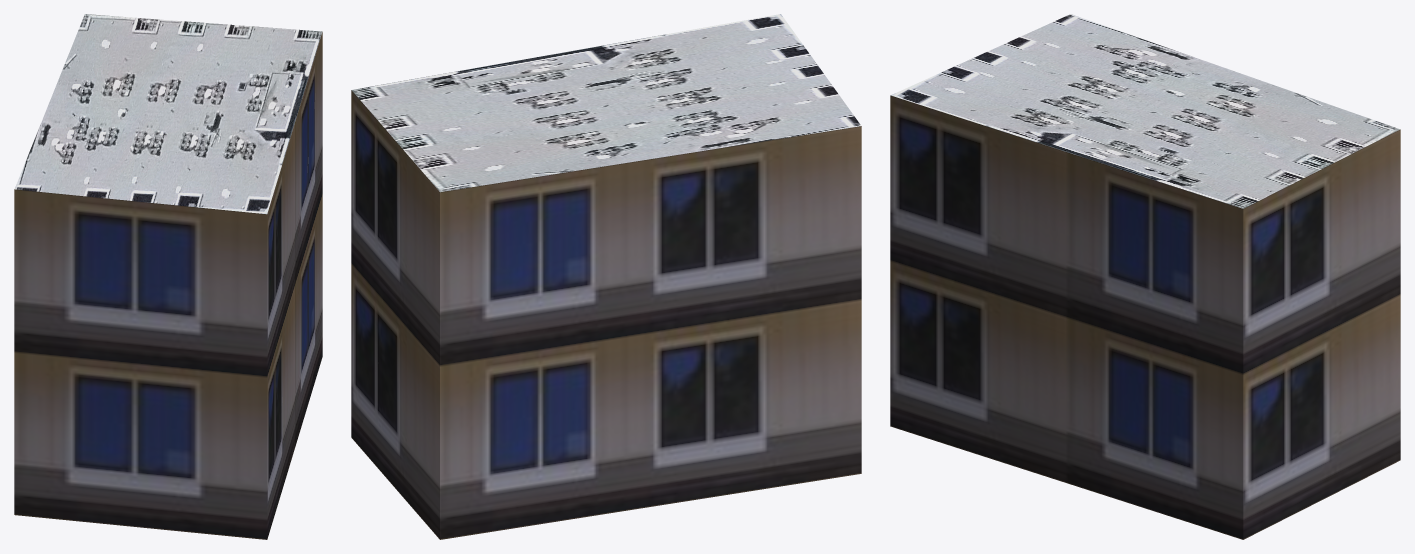
The model's file is ResTex__4173.fbx.
3 renders of one model, left to right at view 1: azimuth 30°, elevation 25°; view 2: azimuth 150°, elevation 25°; view 3: azimuth 270°, elevation 25°, orthographic. The views are drawn at different scales.
Visible parts, largest first — view 1: CityEngineMaterial_5_m, CityEngineMaterial_2_m; view 2: CityEngineMaterial_5_m, CityEngineMaterial_2_m; view 3: CityEngineMaterial_5_m, CityEngineMaterial_2_m.
Boxes of the visible parts, left/top/right/bottom form: CityEngineMaterial_5_m: left=14, top=32, right=322, bottom=539; CityEngineMaterial_2_m: left=15, top=14, right=322, bottom=214; CityEngineMaterial_5_m: left=351, top=90, right=861, bottom=539; CityEngineMaterial_2_m: left=352, top=14, right=860, bottom=192; CityEngineMaterial_5_m: left=890, top=95, right=1400, bottom=539; CityEngineMaterial_2_m: left=891, top=14, right=1399, bottom=208.
Size of the model in its own units: 7.57 by 6 by 8.38.
2 materials, 2 textured.
